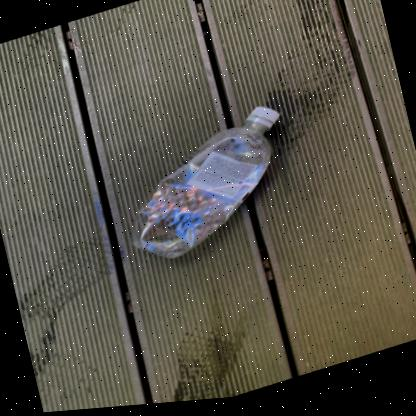Plastic: (131, 111, 279, 261)
